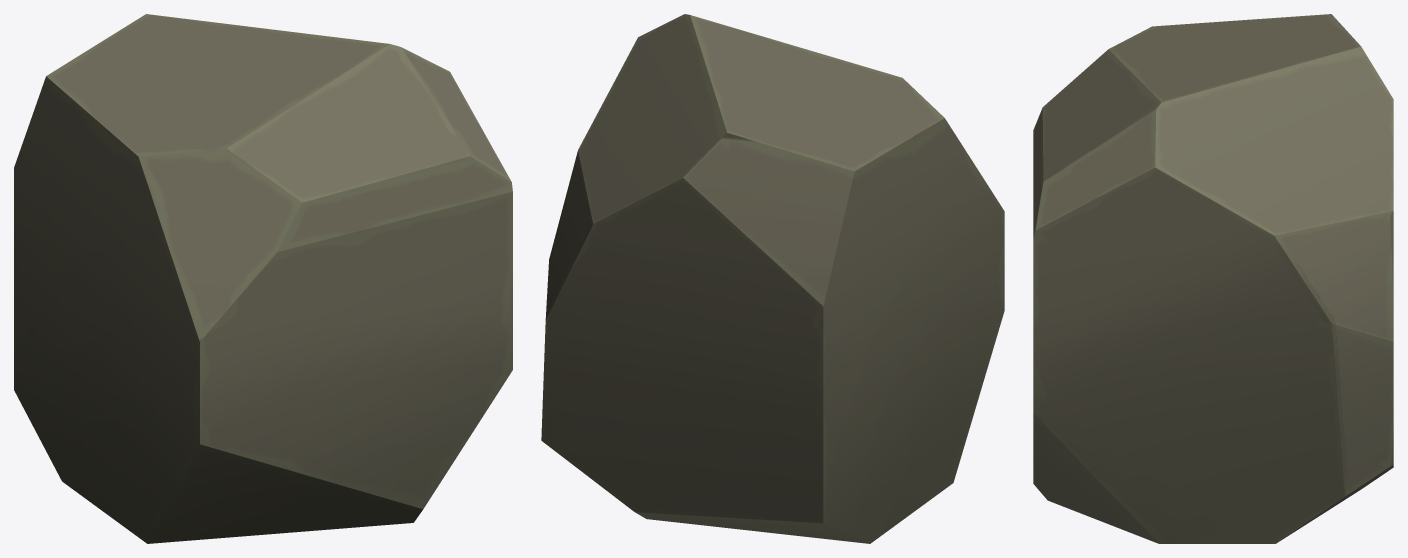
The model's file is Rock4.fbx.
3 views of the same model, side by side, from view 1: azimuth 30°, elevation 25°; view 2: azimuth 150°, elevation 25°; view 3: azimuth 270°, elevation 25° (orthographic). The views are drawn at different scales.
Visible parts, largest first — view 1: Cube.003; view 2: Cube.003; view 3: Cube.003.
Boxes of the visible parts, x1,y1,x2,y2 form: Cube.003: (14, 14, 512, 543); Cube.003: (541, 14, 1004, 543); Cube.003: (1033, 14, 1393, 543).
Bounding box in the file's own units: 357 × 465 × 367.
Materials: 1 (1 with a texture image).
